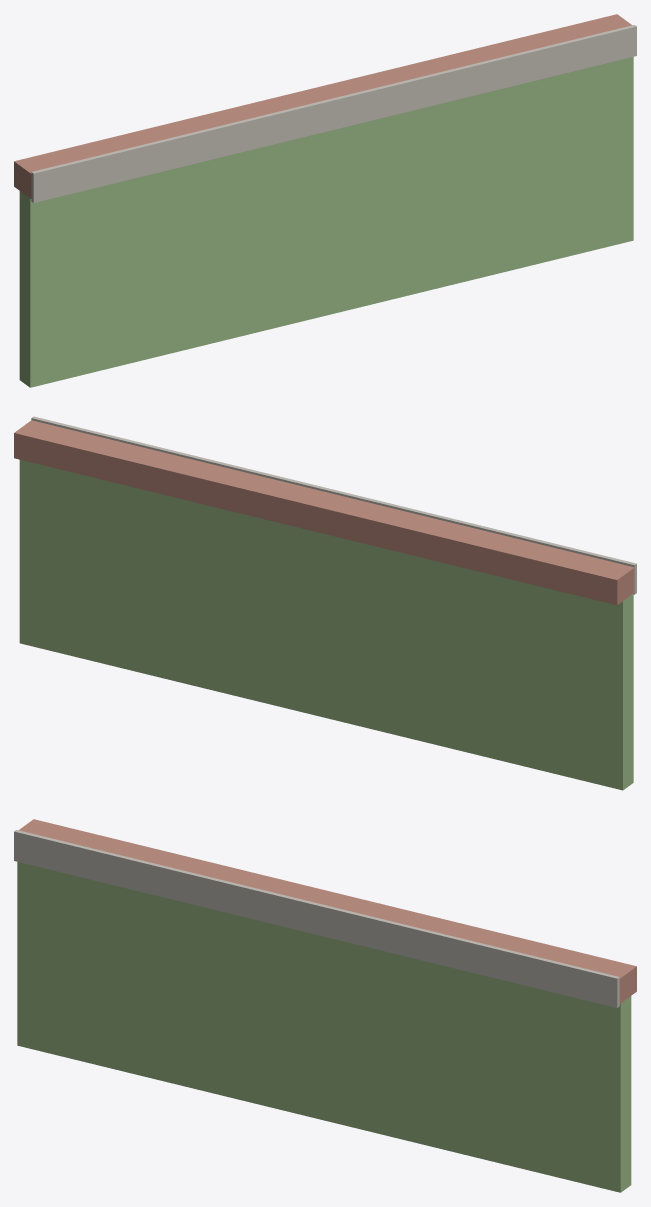
Rendered from r-123-alster-brick-quay-lawn.glb.
3 renders of one model, top to bottom at view 1: azimuth 30°, elevation 25°; view 2: azimuth 150°, elevation 25°; view 3: azimuth 330°, elevation 25°, orthographic.
Visible parts, largest first — view 1: lawn, coping, quay-wall; view 2: lawn, quay-wall, coping; view 3: lawn, coping, quay-wall.
Boxes of the visible parts, x1,y1,x2,y2 form: lawn: (19, 57, 633, 387); coping: (31, 25, 636, 202); quay-wall: (14, 14, 631, 198); lawn: (19, 460, 633, 790); quay-wall: (14, 420, 634, 605); coping: (31, 416, 636, 594); lawn: (17, 862, 631, 1192); coping: (14, 830, 619, 1007); quay-wall: (19, 819, 636, 1003).
Bounding box in the file's own units: 30000 × 10299 × 1701.
